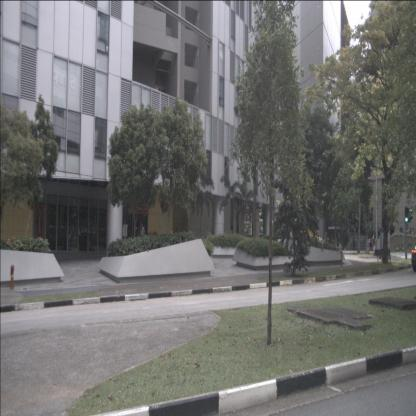human-pedestrian-adult: (399, 224, 403, 238), (372, 234, 375, 251), (392, 222, 395, 236), (412, 226, 415, 239), (409, 227, 412, 239), (353, 233, 355, 250), (368, 236, 370, 251), (390, 225, 392, 236)
movable_object-trafficcone: (373, 244, 375, 252)
vehicle-bicycle: (377, 240, 391, 264)
vehicle-car: (412, 241, 416, 273)
